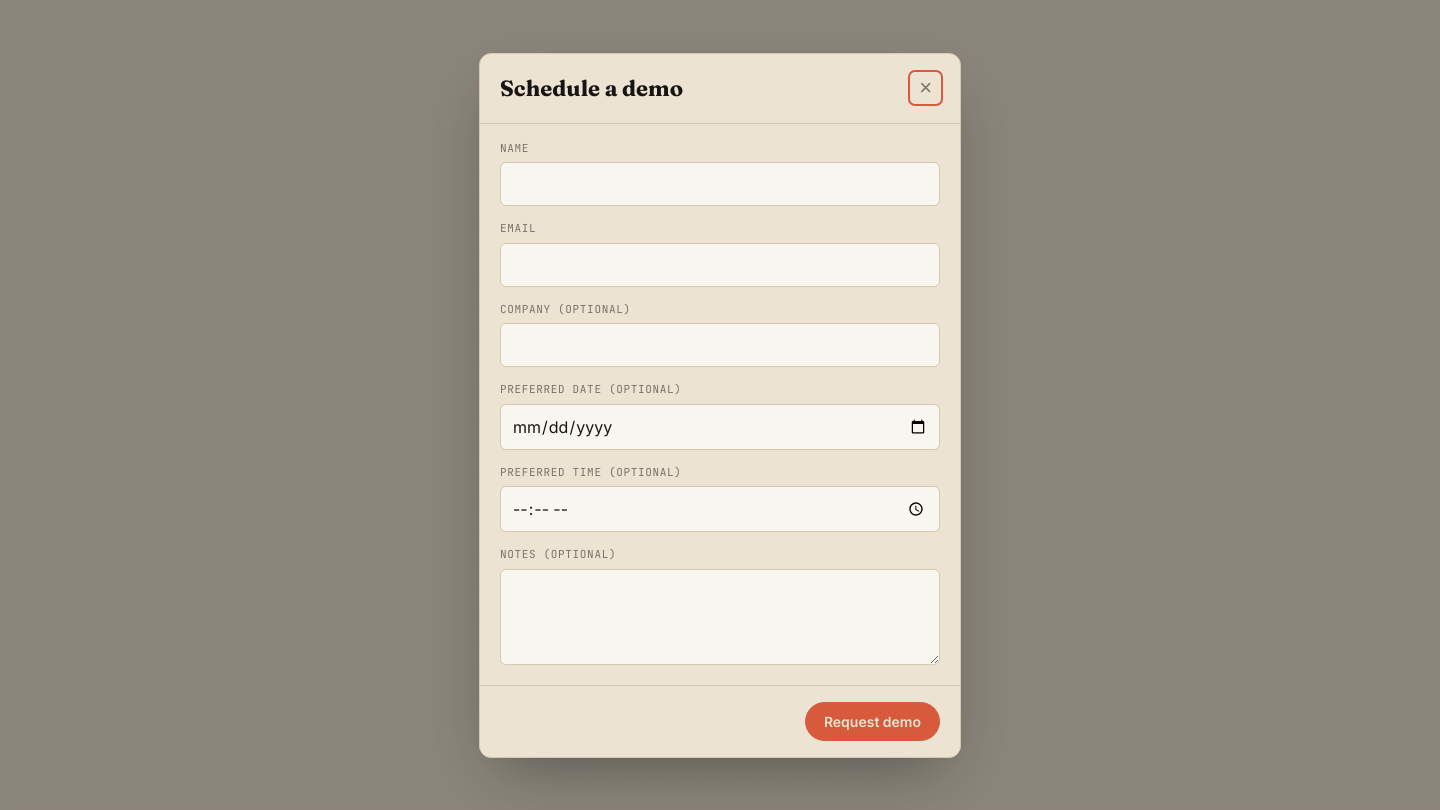
Test: ScheduleDemoDialog › shows an error message when the submit fails
Type "Ada" into the field labelled "Name".
click(720, 184); type("Ada")  # box top-left (500, 162), bottom-right (940, 206)
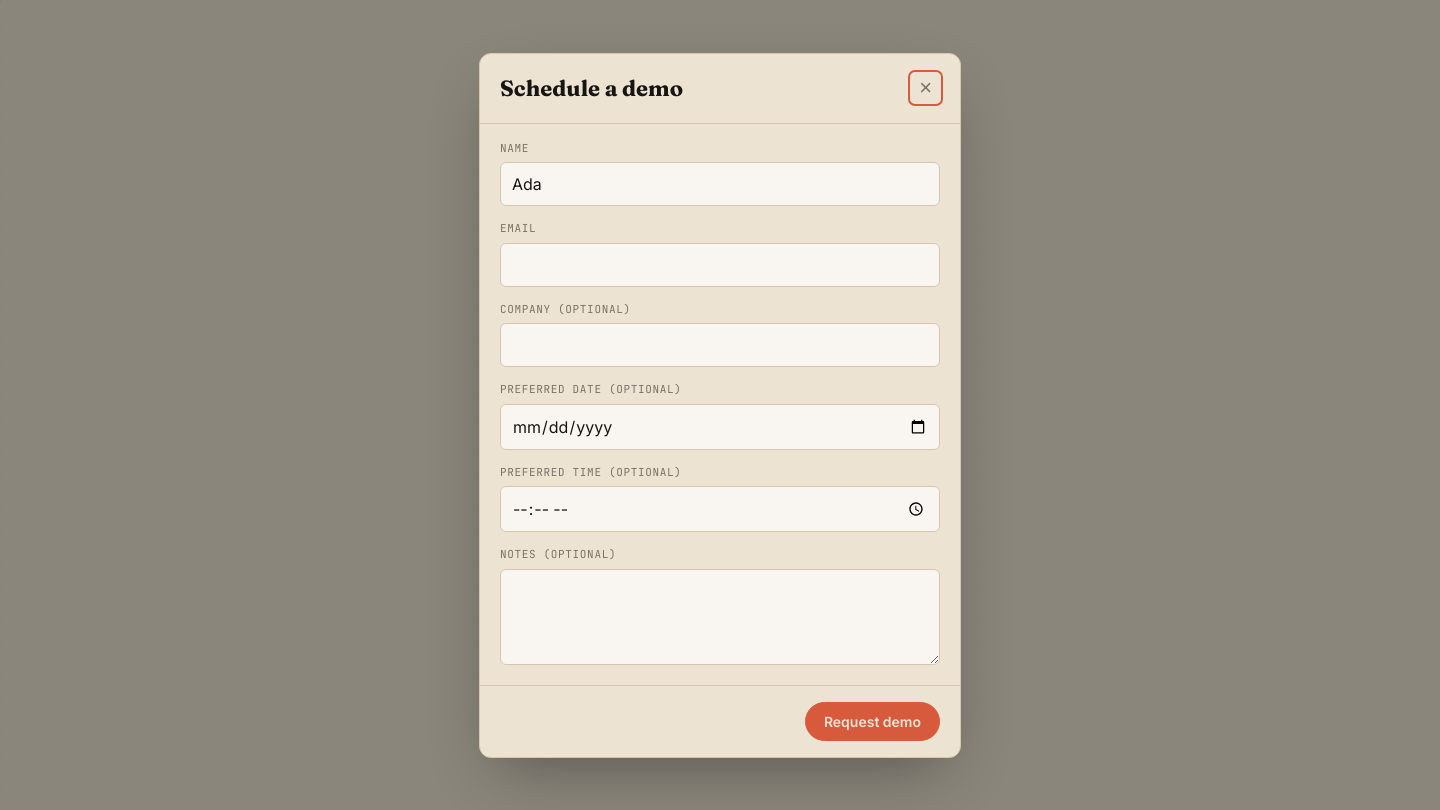
Type "ada@example.com" into the field labelled "Email".
click(720, 264); type("ada@example.com")  # box top-left (500, 242), bottom-right (940, 286)
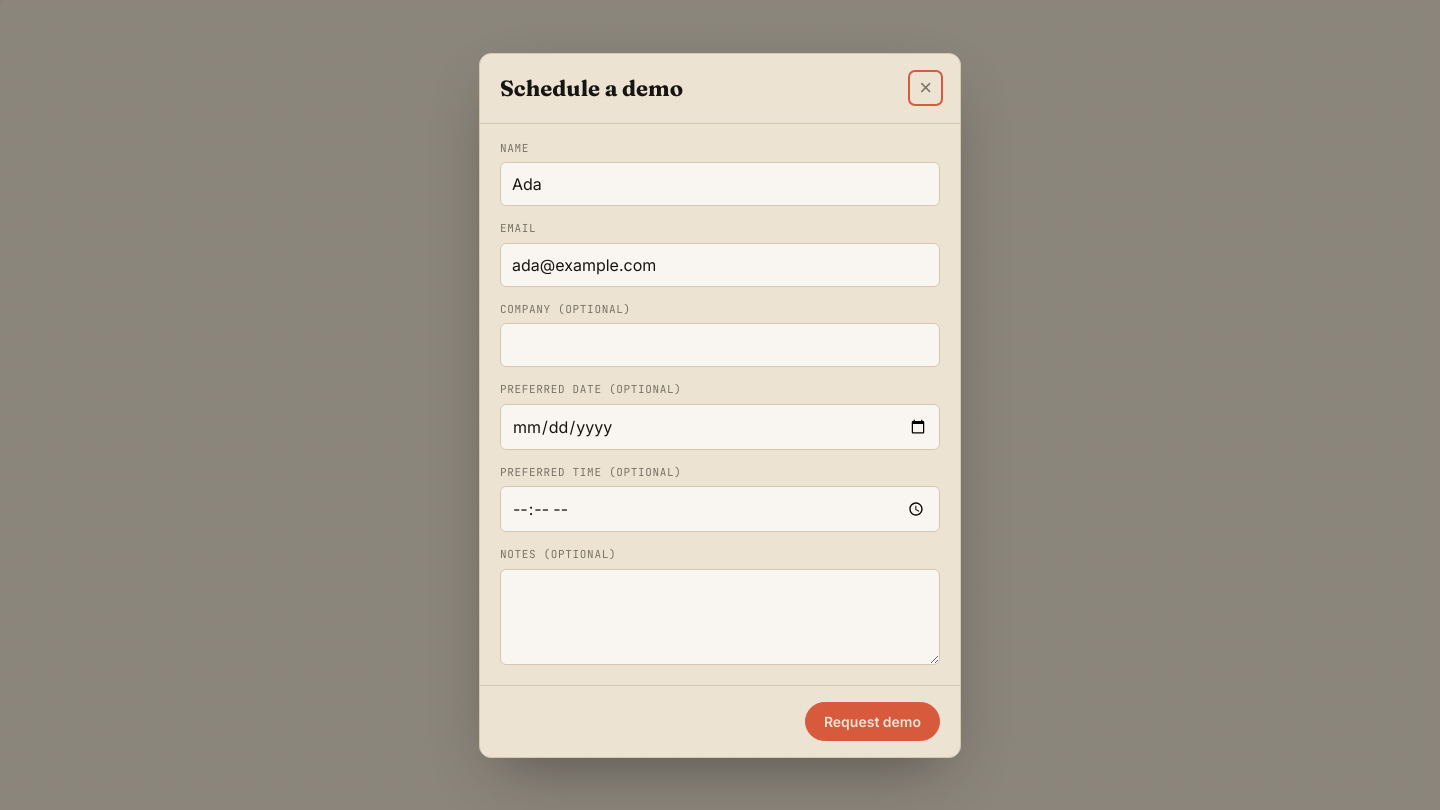
Click the button "Request demo".
click(872, 721)  # box top-left (805, 702), bottom-right (940, 740)
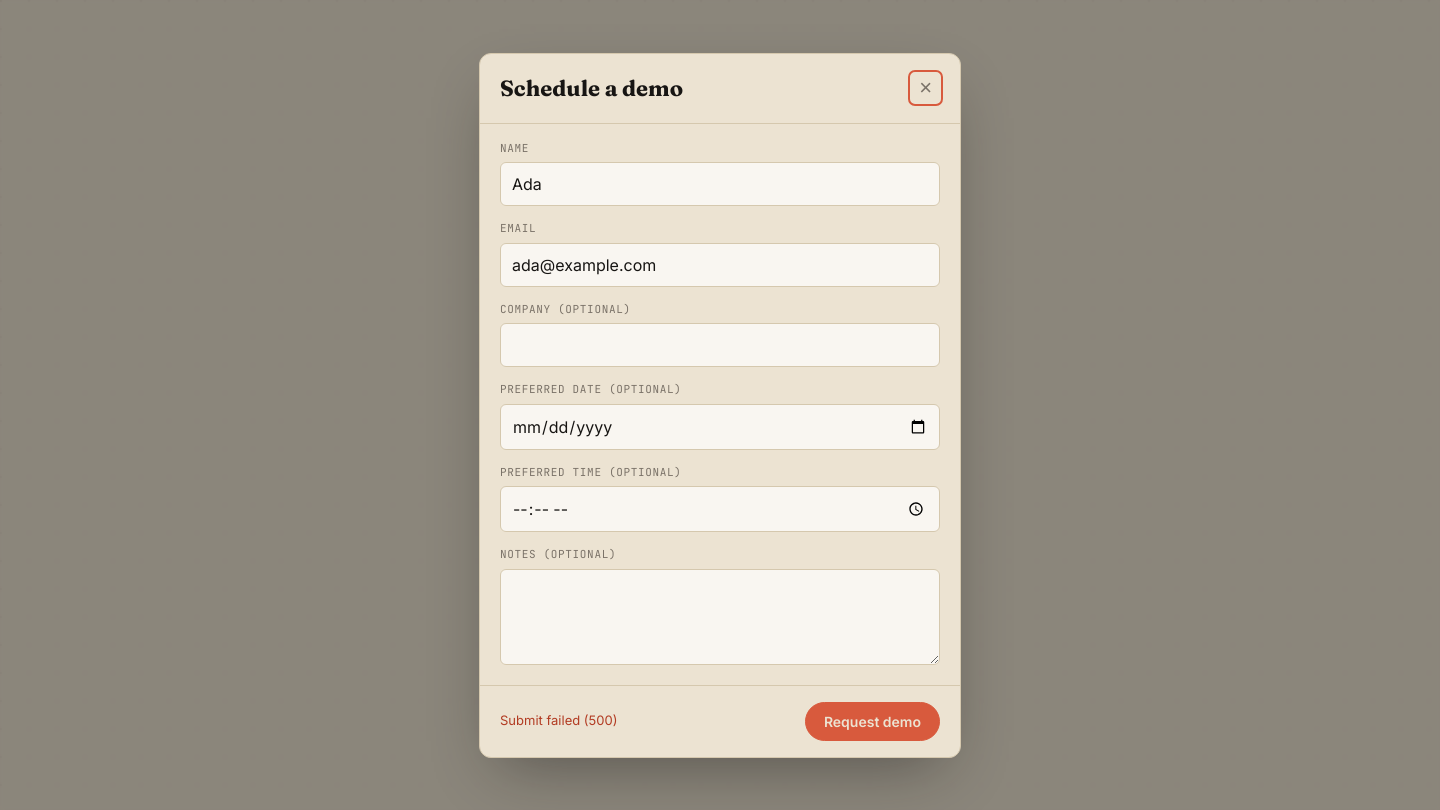
expect the message reads "Submit failed (500)": met, box top-left (500, 712), bottom-right (617, 728)
